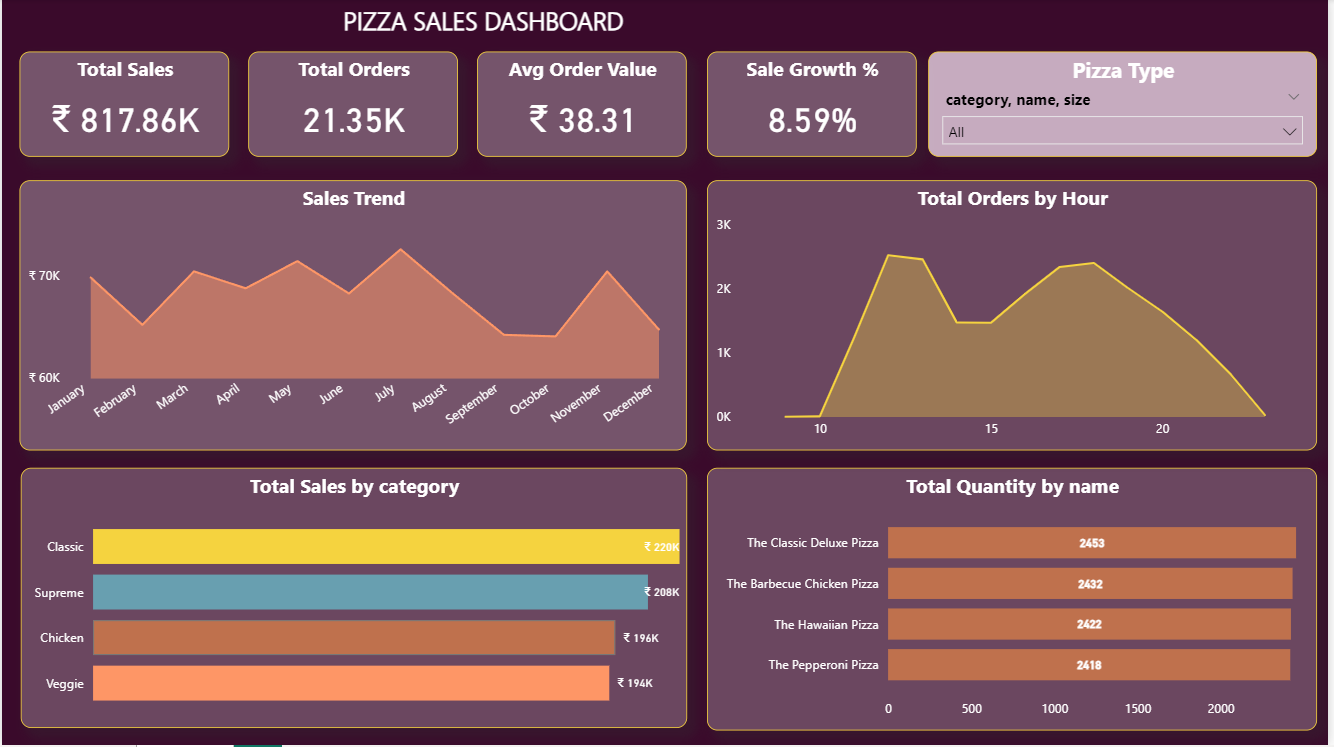

Layout of this report page (visuals, bound fields, positions):
{"tool":"powerbi","page":{"name":"Page 2","canvas":[1280,720],"ordinal":0},"visuals":[{"type":"card","title":"Total Sales","fields":{"Values":["order_details.Total Sales"]},"box":[16.7,50.3,202.7,101.3],"z":0},{"type":"card","title":"Total Orders","fields":{"Values":["orders.Total Orders"]},"box":[237.5,50.3,202.7,101.3],"z":1000},{"type":"card","title":"Avg Order Value","fields":{"Values":["order_details.Avg Order Value"]},"box":[458.2,50.3,202.7,101.3],"z":2000},{"type":"card","title":"Sale Growth %","fields":{"Values":["orders.Sales Growth %"]},"box":[680.2,50.3,202.7,101.3],"z":3000},{"type":"lineChart","title":"Sales Trend","fields":{"Y":["order_details.Total Sales"],"Category":["orders.date.Variation.Date Hierarchy.Month"]},"box":[16.9,174.9,644.2,260.6],"z":4000},{"type":"barChart","fields":{"Category":["pizza_types.category"],"Y":["order_details.Total Sales"]},"box":[18.1,452.4,643,250.9],"z":5000},{"type":"barChart","fields":{"Y":["order_details.Total Quantity"],"Category":["pizza_types.name"]},"box":[680.4,452.4,588.7,253.4],"z":6000},{"type":"areaChart","fields":{"Category":["orders.Hour"],"Y":["orders.Total Orders"]},"box":[680.4,174.9,588.7,260.6],"z":7000},{"type":"slicer","title":"Pizza Type","fields":{"Values":["pizza_types.category","pizza_types.name","pizzas.size"]},"box":[894,50.7,375.2,101.3],"z":8000},{"type":"textbox","box":[324.5,0,298,43.4],"z":9000}]}

Visuals, with their boxes in screenshot pixels (x1, y1, x2, y2), scaled from the page's 1280x720 canvas onto the 1334x747 screenshot:
"Total Sales" card: detection(17, 52, 229, 157)
"Total Orders" card: detection(248, 52, 459, 157)
"Avg Order Value" card: detection(478, 52, 689, 157)
"Sale Growth %" card: detection(709, 52, 920, 157)
"Sales Trend" lineChart: detection(18, 181, 689, 452)
barChart - pizza_types.category x order_details.Total Sales: detection(19, 469, 689, 730)
barChart - order_details.Total Quantity x pizza_types.name: detection(709, 469, 1323, 732)
areaChart - orders.Hour x orders.Total Orders: detection(709, 181, 1323, 452)
"Pizza Type" slicer: detection(932, 53, 1323, 158)
textbox: detection(338, 0, 649, 45)
